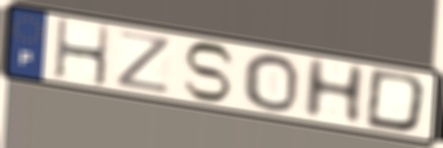D: (362, 66, 430, 135)
H: (299, 55, 369, 125), (53, 17, 112, 90)
O: (241, 52, 301, 114)
S: (180, 40, 238, 103)
Z: (112, 28, 174, 96)
